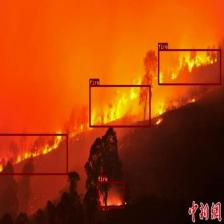fire: (0, 133, 67, 175), (89, 85, 150, 127), (158, 49, 221, 85), (98, 182, 124, 208)
